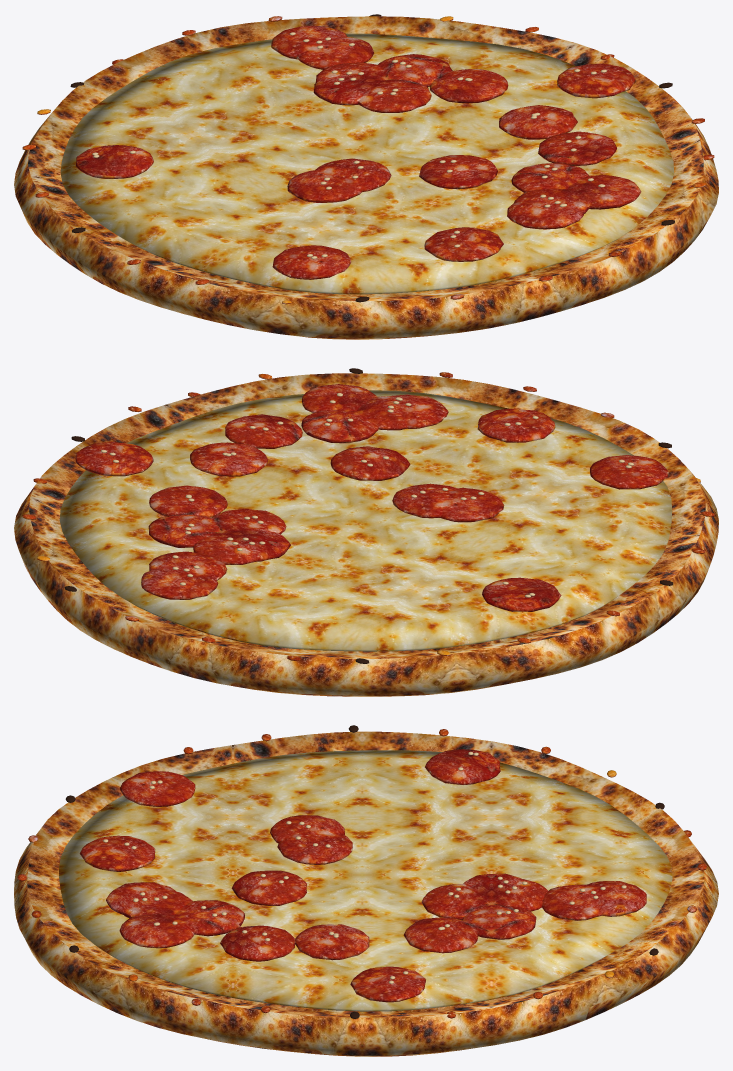
File: pizza-pepperoni.glb
The picture shows the model from 3 angles, top to bottom: view 1: azimuth 30°, elevation 25°; view 2: azimuth 150°, elevation 25°; view 3: azimuth 270°, elevation 25°; orthographic projection.
Visible parts, largest first — view 1: Mucarela, Massa001, Pepperoni, Bolha_tostada003, Gordura_pepperoni; view 2: Mucarela, Massa001, Pepperoni, Gordura_pepperoni, Bolha_tostada003; view 3: Mucarela, Massa001, Pepperoni, Gordura_pepperoni, Bolha_tostada003.
Part boxes in pixels (<box>): Mucarela: <box>60,33,674,294</box>; Massa001: <box>14,16,718,339</box>; Pepperoni: <box>76,25,641,279</box>; Bolha_tostada003: <box>22,16,714,304</box>; Gordura_pepperoni: <box>92,32,606,259</box>; Mucarela: <box>59,390,672,651</box>; Massa001: <box>14,373,718,696</box>; Pepperoni: <box>75,384,668,611</box>; Gordura_pepperoni: <box>101,393,633,597</box>; Bolha_tostada003: <box>22,372,714,660</box>; Mucarela: <box>59,750,672,1011</box>; Massa001: <box>14,731,718,1056</box>; Pepperoni: <box>79,749,646,1002</box>; Gordura_pepperoni: <box>103,751,626,983</box>; Bolha_tostada003: <box>17,729,706,1018</box>.
Bounding box in the file's own units: 0.3 × 0.03 × 0.3.
7 materials, 4 textured.
